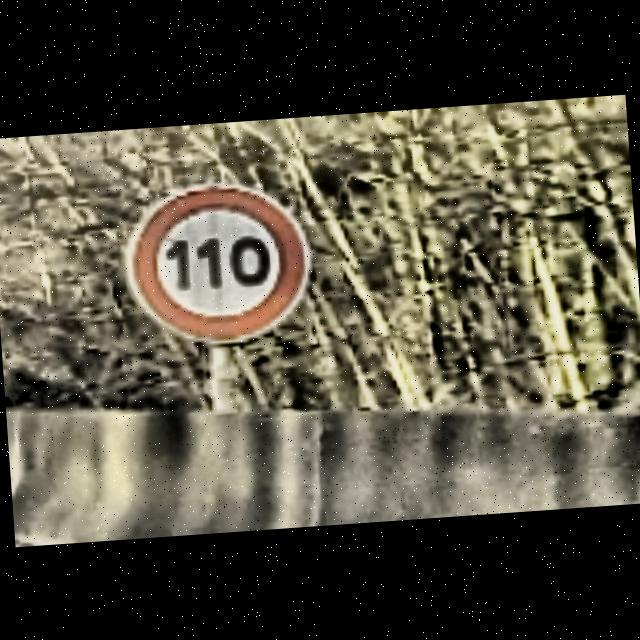speed_110: (120, 174, 318, 352)
